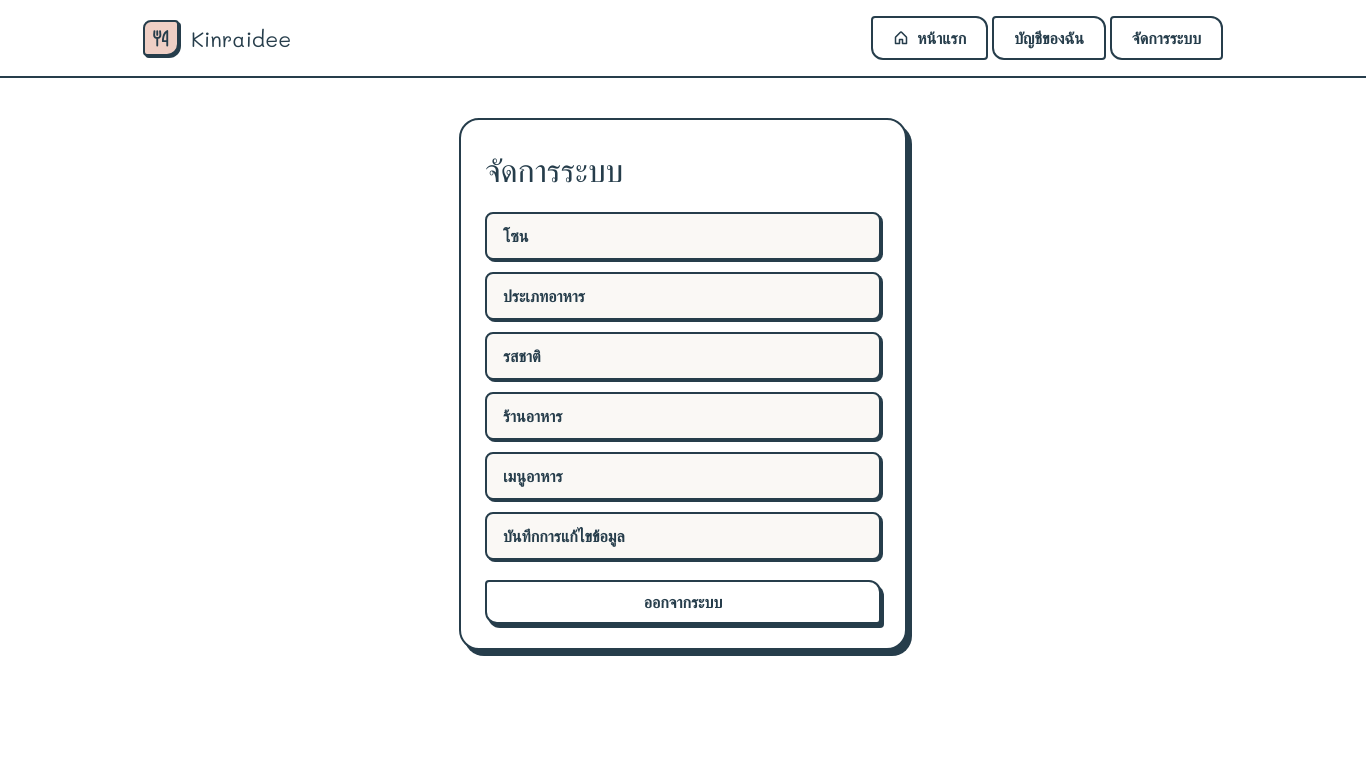
Test: logout › keeps anonymous recommendation state in sessionStorage
Click the button "ออกจากระบบ". click: (683, 602)
box: [485, 580, 881, 624]
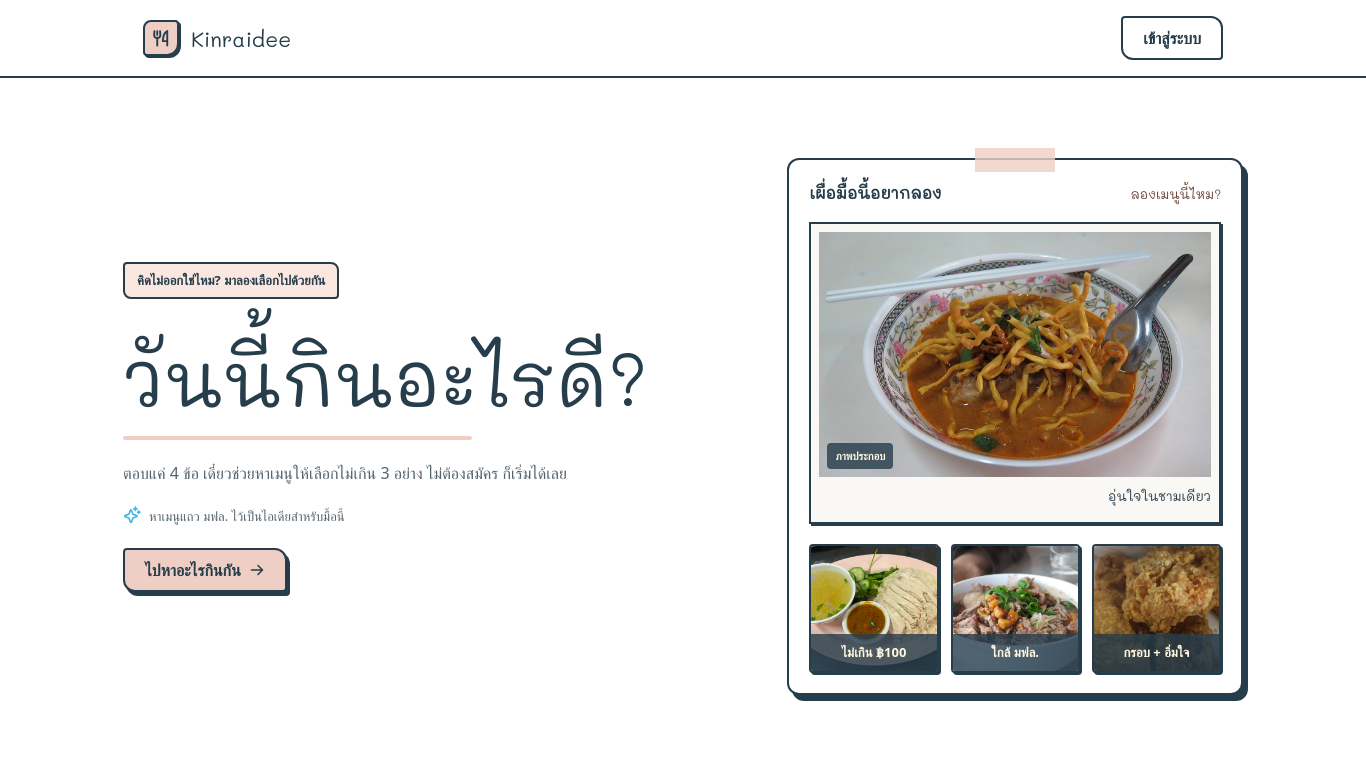
Result: the link "เข้าสู่ระบบ" is shown at [1121, 16, 1223, 60]
